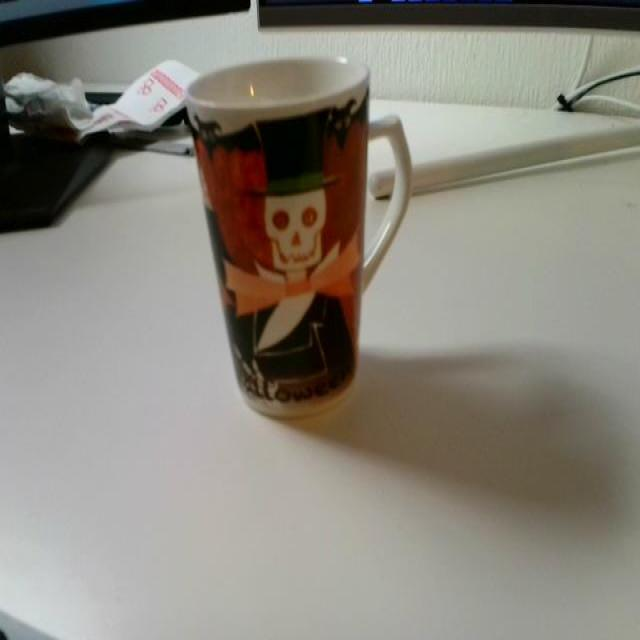cup: (168, 48, 422, 427)
